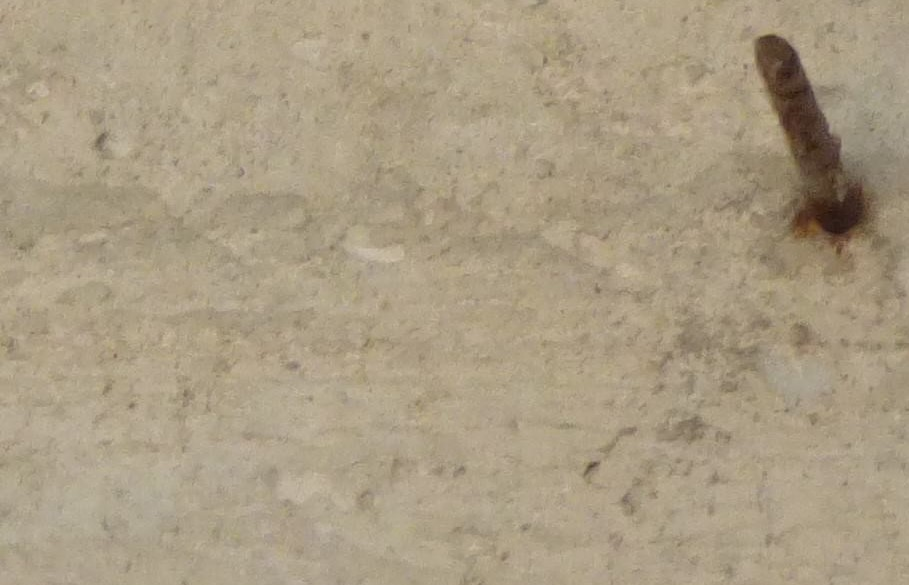Exposed reinforcement: (753, 34, 859, 235)
